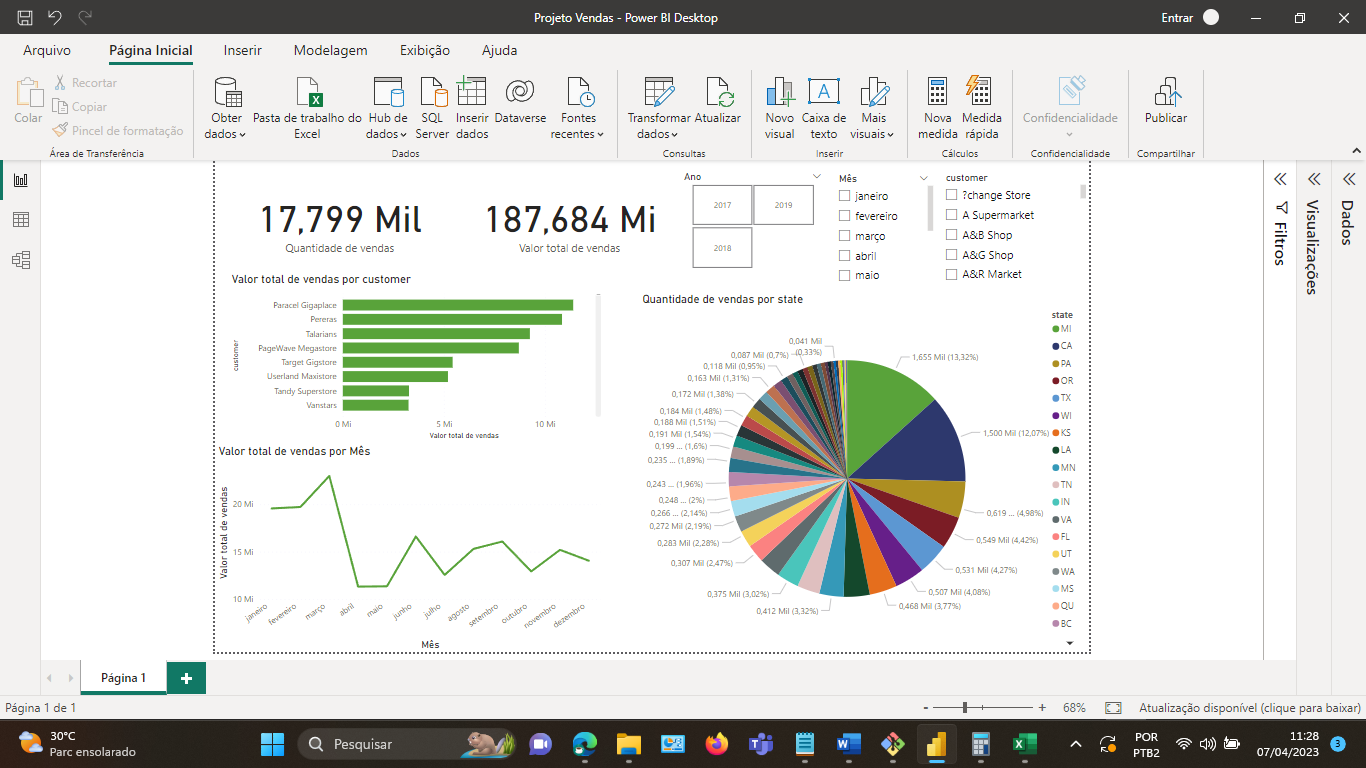

The page's visual inventory and layout, read from the dashboard file:
{"tool":"powerbi","page":{"name":"Página 1","canvas":[1280,720],"ordinal":0},"visuals":[{"type":"card","fields":{"Values":["FT_VENDAS.Quantidade de vendas"]},"box":[0,0,364.5,179.7],"z":0},{"type":"card","fields":{"Values":["FT_VENDAS.Valor total de vendas"]},"box":[364.5,0,309.1,179.7],"z":1000},{"type":"slicer","fields":{"Values":["DIM_CLIENTES.customer"]},"box":[1056.6,13.4,223.4,179.7],"z":2000},{"type":"slicer","fields":{"Values":["DIM_TEMPO.datekey.Variation.Hierarquia de datas.Mês"]},"box":[900.4,15.1,156.2,179.7],"z":3000},{"type":"barChart","fields":{"Y":["FT_VENDAS.Valor total de vendas"],"Category":["DIM_CLIENTES.customer"]},"box":[18.5,164.6,551,250.3],"z":4000},{"type":"lineChart","fields":{"Category":["DIM_TEMPO.datekey.Variation.Hierarquia de datas.Mês"],"Y":["FT_VENDAS.Valor total de vendas"]},"box":[0,414.9,569.4,305.7],"z":5000},{"type":"pieChart","fields":{"Category":["DIM_LOCALIDADE.state"],"Y":["FT_VENDAS.Quantidade de vendas"]},"box":[619.8,193.2,660.2,527.5],"z":6000},{"type":"slicer","fields":{"Values":["DIM_TEMPO.datekey.Variation.Hierarquia de datas.Ano"]},"box":[673.6,11.8,226.8,152.9],"z":7000}]}

Visuals, with their boxes on the page's 1280x720 design canvas (x1, y1, x2, y2). These are canvas units, not pixel positions in the 1366x768 screenshot, which may show the page scaled, cropped or inside an application window:
card - FT_VENDAS.Quantidade de vendas: left=0, top=0, right=364, bottom=180
card - FT_VENDAS.Valor total de vendas: left=364, top=0, right=674, bottom=180
slicer - DIM_CLIENTES.customer: left=1057, top=13, right=1280, bottom=193
slicer - DIM_TEMPO.datekey.Variation.Hierarquia de datas.Mês: left=900, top=15, right=1057, bottom=195
barChart - FT_VENDAS.Valor total de vendas x DIM_CLIENTES.customer: left=18, top=165, right=570, bottom=415
lineChart - DIM_TEMPO.datekey.Variation.Hierarquia de datas.Mês x FT_VENDAS.Valor total de vendas: left=0, top=415, right=569, bottom=721
pieChart - DIM_LOCALIDADE.state x FT_VENDAS.Quantidade de vendas: left=620, top=193, right=1280, bottom=721
slicer - DIM_TEMPO.datekey.Variation.Hierarquia de datas.Ano: left=674, top=12, right=900, bottom=165
